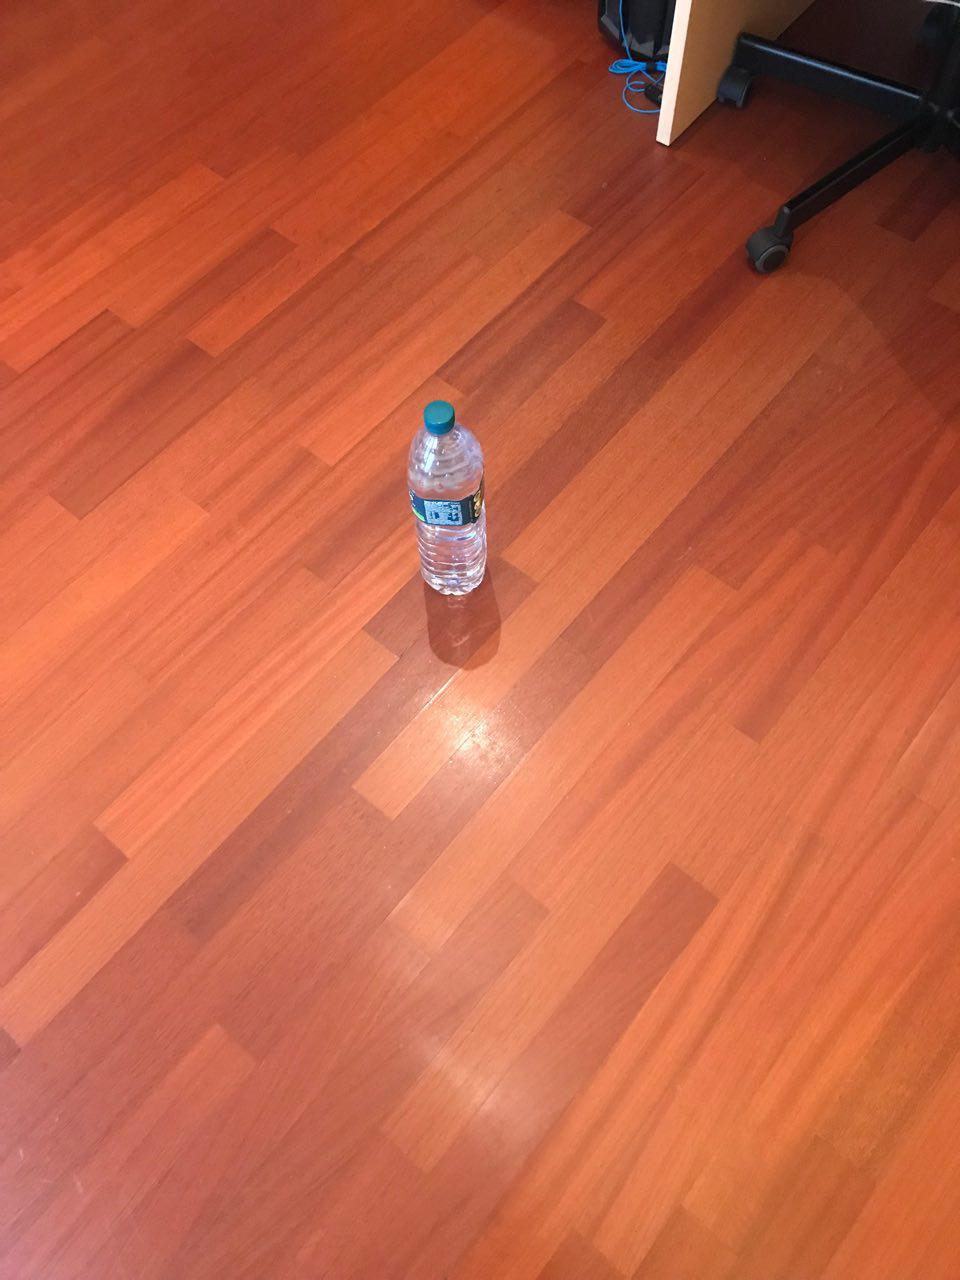san_bernardo: (406, 398, 489, 598)
